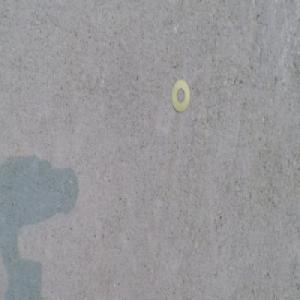Washer: (171, 80, 191, 111)
